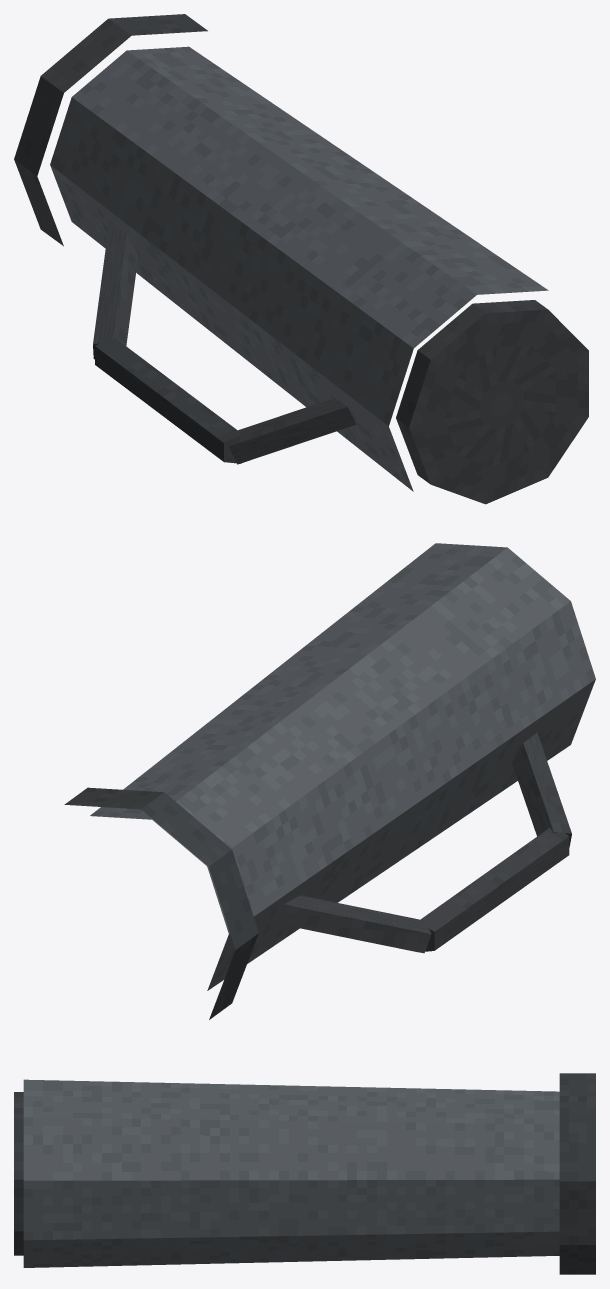
File: quiver_takedown_bow.glb
3 renders of one model, top to bottom at view 1: azimuth 30°, elevation 25°; view 2: azimuth 150°, elevation 25°; view 3: azimuth 270°, elevation 25°, orthographic. The views are drawn at different scales.
Visible parts, largest first — view 1: block_tapered quiver, block_closed sole, block_reinforced open lip, block_carry strap 1, block_carry strap 2, block_carry strap 0; view 2: block_tapered quiver, block_reinforced open lip, block_carry strap 1, block_carry strap 0, block_carry strap 2; view 3: block_tapered quiver, block_reinforced open lip, block_closed sole.
Boxes of the visible parts, x1,y1,x2,y2 form: block_tapered quiver: (50, 46, 548, 491); block_closed sole: (396, 300, 588, 504); block_reinforced open lip: (14, 14, 207, 246); block_carry strap 1: (95, 337, 241, 463); block_carry strap 2: (229, 398, 356, 464); block_carry strap 0: (93, 219, 138, 359); block_tapered quiver: (90, 543, 595, 990); block_reinforced open lip: (64, 787, 258, 1019); block_carry strap 1: (421, 828, 569, 951); block_carry strap 0: (274, 895, 431, 953); block_carry strap 2: (512, 732, 571, 847); block_tapered quiver: (23, 1079, 559, 1267); block_reinforced open lip: (559, 1073, 595, 1274); block_closed sole: (14, 1092, 23, 1255).
Bounding box in the file's own units: 0.1017 × 0.0807 × 0.2324.
1 material, 1 textured.
